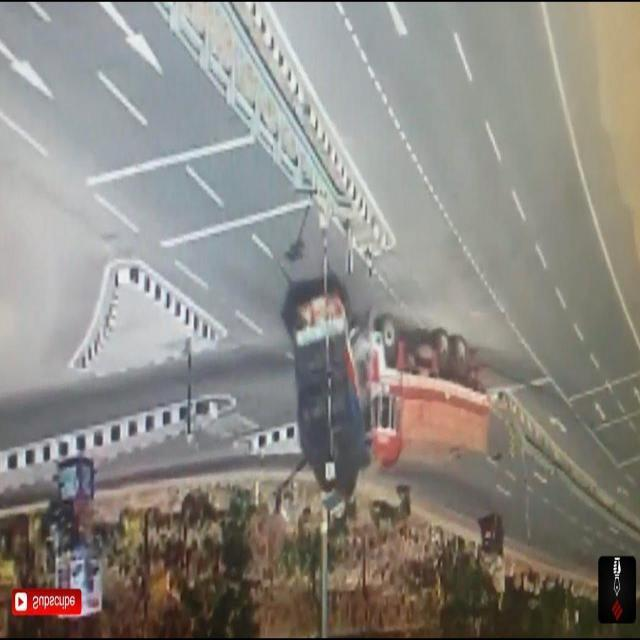severe: (291, 283, 494, 513)
